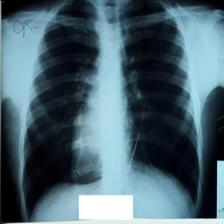tuberculosis: (15, 0, 204, 222)
